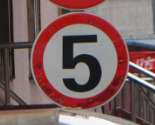speed_limit_5: (30, 12, 129, 110)
